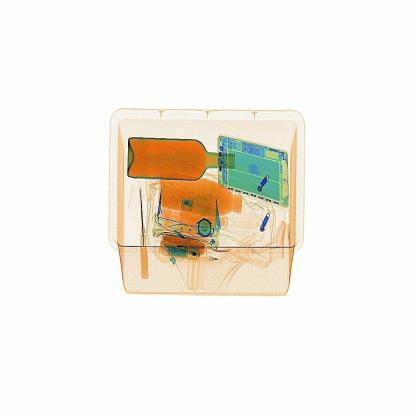wrench: (135, 186, 154, 286)
